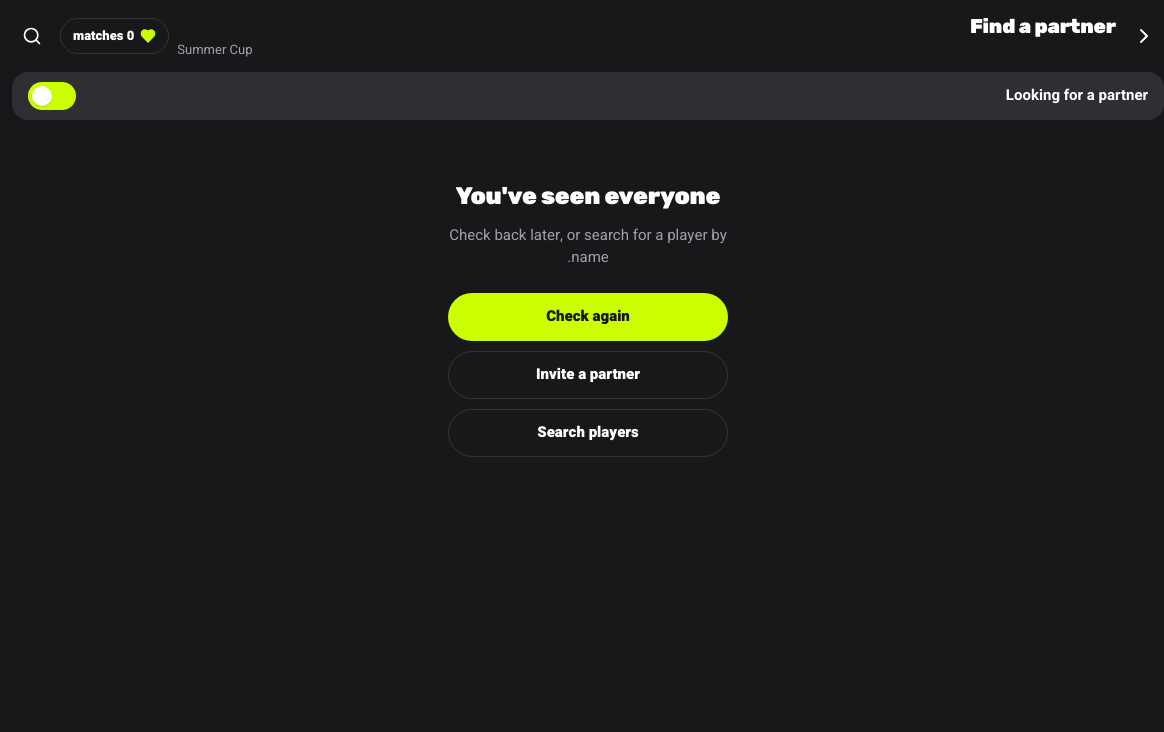
Test: PartnerDeck — when there is no card to show › no share sheet: the link is copied, said so, and counted
The image size is (1164, 732).
Click the button with test id "partner-empty-invite": click(588, 374) [448,350,728,398]
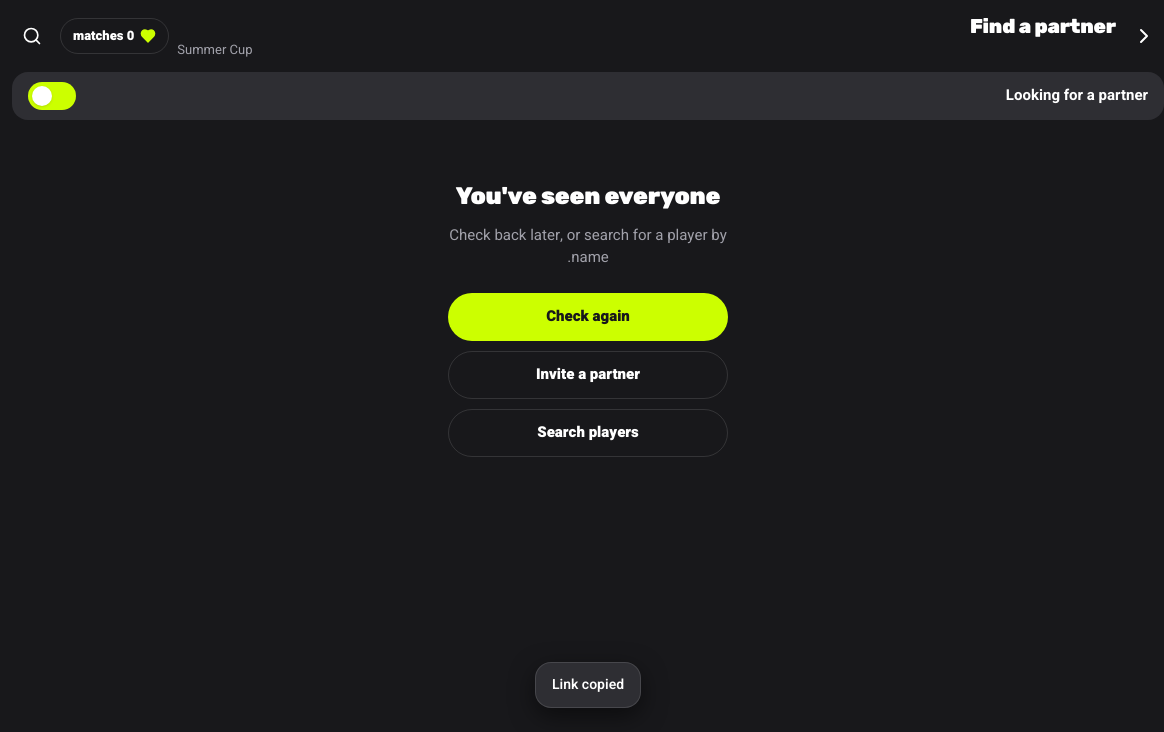
Now the text with test id "partner-toast" reads "Link copied", box [552,674,624,695]
